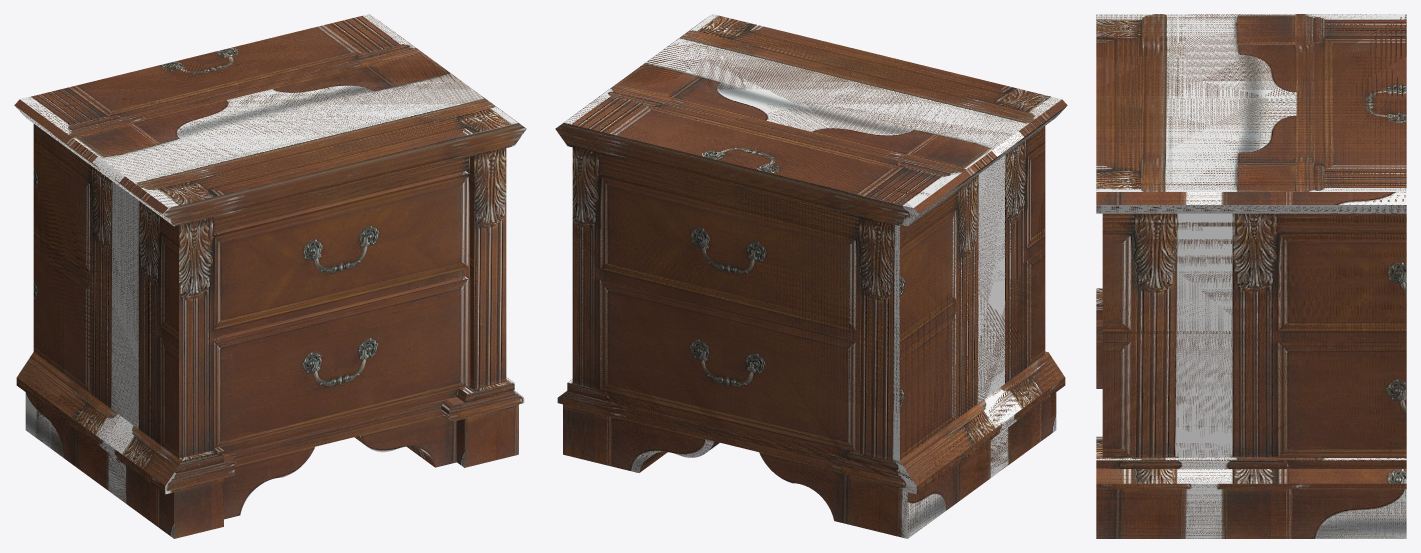
Rendered from nightstand.min.dae.
3 views of the same model, side by side, from view 1: azimuth 30°, elevation 25°; view 2: azimuth 150°, elevation 25°; view 3: azimuth 270°, elevation 25° (orthographic). The views are drawn at different scales.
Visible parts, largest first — view 1: Model; view 2: Model; view 3: Model.
Boxes of the visible parts, x1,y1,x2,y2 form: Model: [14, 14, 526, 538]; Model: [555, 14, 1067, 538]; Model: [1096, 14, 1406, 538].
Bounding box in the file's own units: 34.65 × 24.5 × 30.23.
Materials: 2 (2 with a texture image).
